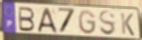7: (57, 8, 77, 36)
A: (37, 7, 59, 34)
B: (18, 6, 36, 33)
G: (77, 9, 97, 36)
K: (120, 12, 136, 37)
S: (98, 10, 117, 37)
